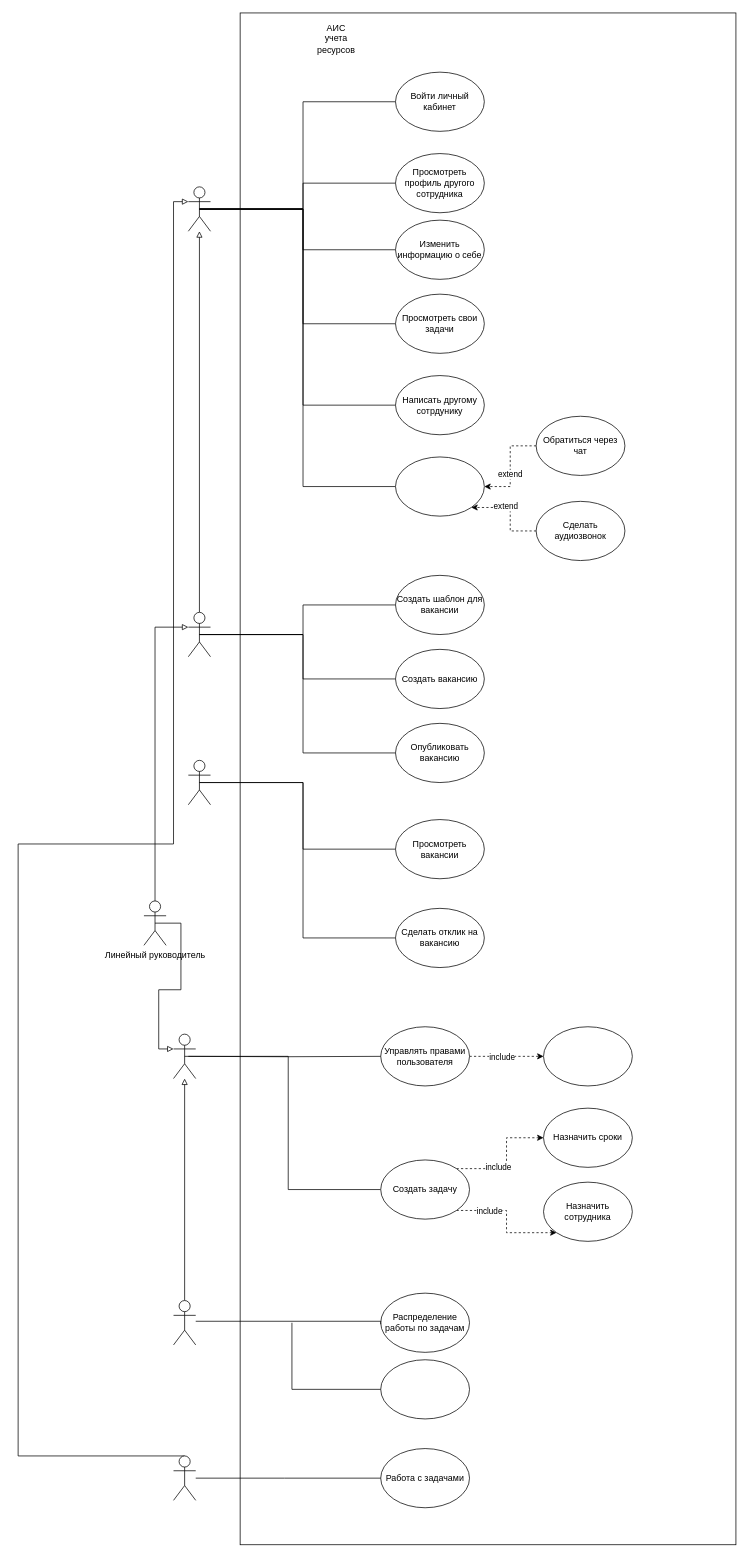
This 749x1558 diagram has some shape labels left out. Each missing label, with the centre of its shape:
"Изменить права пользователя" goes at pixel 587 1056.
"Кандидат" goes at pixel 199 782.
"Менеджер проекта" goes at pixel 184 1056.
"Обратиться в службу поддержки" goes at pixel 439 486.
"Просмотр работы сотрудников" goes at pixel 425 1389.
"Сотрудник" goes at pixel 199 208.
"Сотрудник HR-департамента" goes at pixel 199 634.
"Технический руководитель" goes at pixel 184 1322.
"Технический сотрудник" goes at pixel 184 1477.
